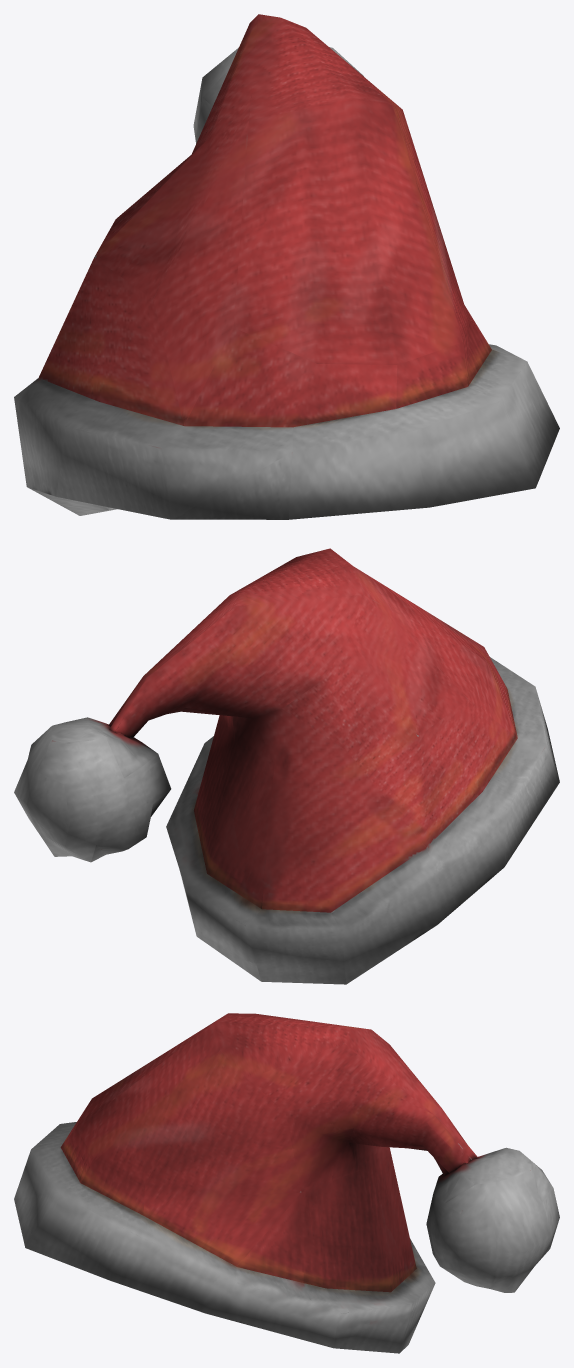
File: Santa Hat.fbx
3 renders of one model, top to bottom at view 1: azimuth 30°, elevation 25°; view 2: azimuth 150°, elevation 25°; view 3: azimuth 270°, elevation 25°, orthographic. The views are drawn at different scales.
Visible parts, largest first — view 1: Santa Hat; view 2: Santa Hat; view 3: Santa Hat.
Boxes of the visible parts, x1,y1,x2,y2 form: Santa Hat: (14, 14, 559, 519); Santa Hat: (14, 548, 559, 984); Santa Hat: (14, 1013, 559, 1353).
Bounding box in the file's own units: 24.19 × 22.98 × 33.48.
